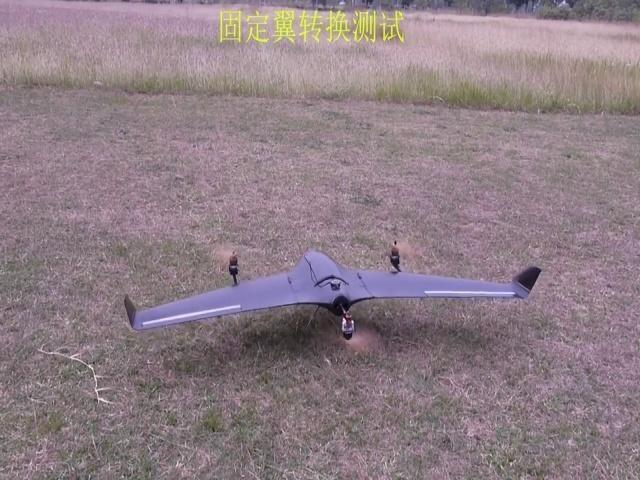Airplane: (124, 239, 542, 348)
